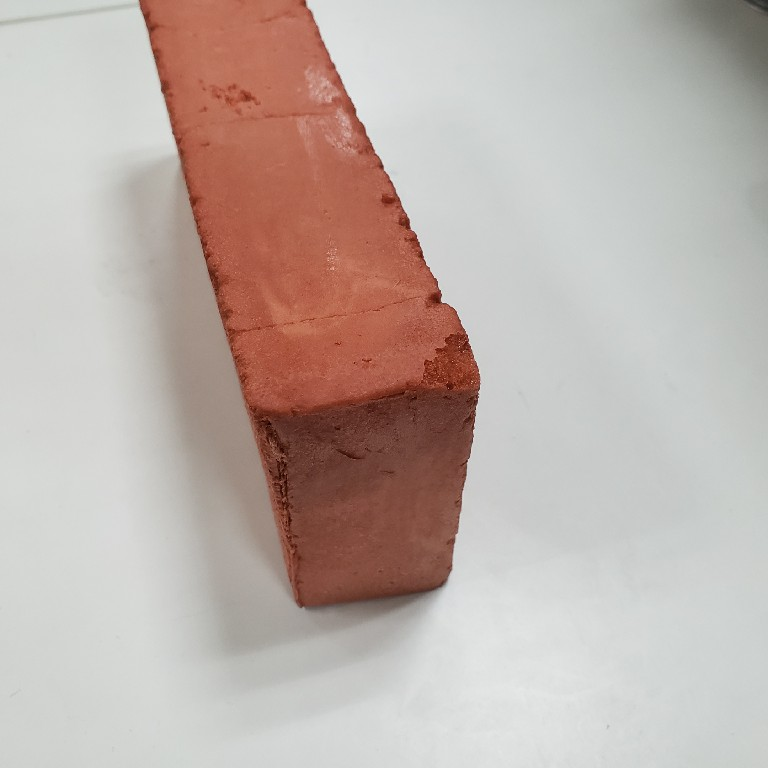brick: (128, 1, 485, 611)
